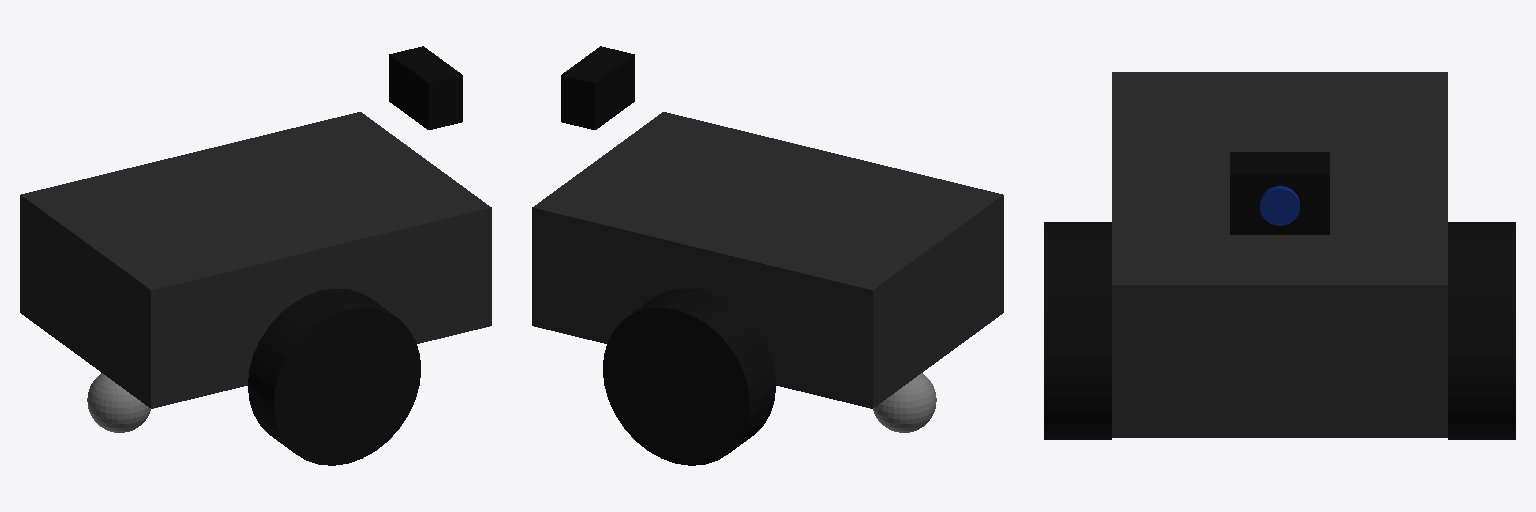
robot.urdf — diffbot_camera:
<?xml version="1.0"?>
<robot name="diffbot_camera">

  <!-- ── Materials ──────────────────────────────────────────────────────────── -->
  <material name="dark_grey"><color rgba="0.2 0.2 0.2 1"/></material>
  <material name="black"><color rgba="0.1 0.1 0.1 1"/></material>
  <material name="grey"><color rgba="0.5 0.5 0.5 1"/></material>
  <material name="blue"><color rgba="0.3 0.5 0.9 1"/></material>
  <material name="camera_black"><color rgba="0.08 0.08 0.08 1"/></material>
  <material name="camera_lens"><color rgba="0.1 0.2 0.5 0.8"/></material>

  <!-- ── Base links (same as diffbot_description) ───────────────────────────── -->
  <link name="base_footprint"/>

  <link name="base_link">
    <visual>
      <geometry><box size="0.3 0.2 0.1"/></geometry>
      <origin xyz="0 0 0.05" rpy="0 0 0"/>
      <material name="dark_grey"/>
    </visual>
    <collision>
      <geometry><box size="0.3 0.2 0.1"/></geometry>
      <origin xyz="0 0 0.05" rpy="0 0 0"/>
    </collision>
    <inertial>
      <mass value="5.0"/>
      <inertia ixx="0.05" ixy="0" ixz="0" iyy="0.05" iyz="0" izz="0.05"/>
    </inertial>
  </link>

  <link name="left_wheel_link">
    <visual>
      <geometry><cylinder radius="0.065" length="0.04"/></geometry>
      <origin xyz="0 0 0" rpy="1.5707963 0 0"/>
      <material name="black"/>
    </visual>
    <collision>
      <geometry><cylinder radius="0.065" length="0.04"/></geometry>
      <origin xyz="0 0 0" rpy="1.5707963 0 0"/>
    </collision>
    <inertial>
      <mass value="0.5"/>
      <inertia ixx="0.001" ixy="0" ixz="0" iyy="0.001" iyz="0" izz="0.001"/>
    </inertial>
  </link>

  <link name="right_wheel_link">
    <visual>
      <geometry><cylinder radius="0.065" length="0.04"/></geometry>
      <origin xyz="0 0 0" rpy="1.5707963 0 0"/>
      <material name="black"/>
    </visual>
    <collision>
      <geometry><cylinder radius="0.065" length="0.04"/></geometry>
      <origin xyz="0 0 0" rpy="1.5707963 0 0"/>
    </collision>
    <inertial>
      <mass value="0.5"/>
      <inertia ixx="0.001" ixy="0" ixz="0" iyy="0.001" iyz="0" izz="0.001"/>
    </inertial>
  </link>

  <link name="caster_link">
    <visual>
      <geometry><sphere radius="0.025"/></geometry>
      <material name="grey"/>
    </visual>
    <collision><geometry><sphere radius="0.025"/></geometry></collision>
    <inertial>
      <mass value="0.1"/>
      <inertia ixx="0.0001" ixy="0" ixz="0" iyy="0.0001" iyz="0" izz="0.0001"/>
    </inertial>
  </link>

  <!-- ── Camera link ────────────────────────────────────────────────────────── -->
  <!-- Small box representing the camera body, mounted at the robot's front -->
  <link name="camera_link">
    <visual>
      <geometry><box size="0.03 0.06 0.04"/></geometry>
      <origin xyz="0 0 0" rpy="0 0 0"/>
      <material name="camera_black"/>
    </visual>
    <visual>
      <!-- Lens circle -->
      <geometry><cylinder radius="0.012" length="0.005"/></geometry>
      <origin xyz="0.017 0 0" rpy="0 1.5708 0"/>
      <material name="camera_lens"/>
    </visual>
    <inertial>
      <mass value="0.05"/>
      <inertia ixx="1e-5" ixy="0" ixz="0" iyy="1e-5" iyz="0" izz="1e-5"/>
    </inertial>
  </link>

  <!-- ── Joints ─────────────────────────────────────────────────────────────── -->
  <joint name="base_footprint_joint" type="fixed">
    <parent link="base_footprint"/>
    <child  link="base_link"/>
    <origin xyz="0 0 0.065" rpy="0 0 0"/>
  </joint>

  <joint name="left_wheel_joint" type="continuous">
    <parent link="base_link"/>
    <child  link="left_wheel_link"/>
    <origin xyz="0.0 0.12 0" rpy="0 0 0"/>
    <axis xyz="0 1 0"/>
    <dynamics damping="0.01" friction="0.1"/>
  </joint>

  <joint name="right_wheel_joint" type="continuous">
    <parent link="base_link"/>
    <child  link="right_wheel_link"/>
    <origin xyz="0.0 -0.12 0" rpy="0 0 0"/>
    <axis xyz="0 1 0"/>
    <dynamics damping="0.01" friction="0.1"/>
  </joint>

  <joint name="caster_joint" type="fixed">
    <parent link="base_link"/>
    <child  link="caster_link"/>
    <origin xyz="-0.12 0 -0.04" rpy="0 0 0"/>
  </joint>

  <!-- Camera mounted at the front of the robot, looking forward (+X direction) -->
  <joint name="camera_joint" type="fixed">
    <parent link="base_link"/>
    <child  link="camera_link"/>
    <!-- 15 cm forward, 0 lateral, 16 cm above base_link origin (≈ top of chassis) -->
    <origin xyz="0.15 0 0.16" rpy="0 0 0"/>
  </joint>

  <!-- ── Camera sensor (ROSpad-compatible Gazebo sensor declaration) ─────────── -->
  <!--
    ROSpad's URDF parser detects <gazebo reference="..."><sensor type="camera">
    and creates a Three.js camera rig attached at that link's joint origin.
    The <remapping> sets the topic name published as sensor_msgs/Image.
  -->
  <gazebo reference="camera_link">
    <sensor type="camera" name="front_camera">
      <camera>
        <horizontal_fov>1.0472</horizontal_fov>  <!-- 60° -->
        <image>
          <width>320</width>
          <height>240</height>
          <format>R8G8B8</format>
        </image>
        <clip><near>0.01</near><far>10.0</far></clip>
      </camera>
      <plugin name="rospad_camera" filename="libgazebo_ros_camera.so">
        <ros>
          <remapping>~/image_raw:=/camera/image_raw</remapping>
        </ros>
        <frame_name>camera_link</frame_name>
      </plugin>
    </sensor>
  </gazebo>

</robot>

--- Facts derived from the render (not from the file) ---
Views: 3 orthographic renders of the robot side by side, from view 1: azimuth 30°, elevation 25°; view 2: azimuth 150°, elevation 25°; view 3: azimuth 270°, elevation 25°.
Model diffbot_camera with 6 links and 5 joints (2 continuous, 3 fixed), rooted at base_footprint, posed every joint at zero.
Links seen in each view (by area): view 1: base_link, right_wheel_link, camera_link, caster_link; view 2: base_link, left_wheel_link, camera_link, caster_link; view 3: base_link, left_wheel_link, right_wheel_link, camera_link.
Link boxes in pixels (box(x1,y1,x2,y2)): base_link: box(20, 112, 491, 408); right_wheel_link: box(248, 288, 420, 465); camera_link: box(389, 46, 462, 129); caster_link: box(87, 373, 150, 432); base_link: box(532, 112, 1003, 408); left_wheel_link: box(603, 288, 775, 465); camera_link: box(561, 46, 634, 129); caster_link: box(873, 373, 936, 432); base_link: box(1112, 72, 1447, 437); left_wheel_link: box(1448, 222, 1515, 439); right_wheel_link: box(1044, 222, 1111, 439); camera_link: box(1230, 152, 1329, 234).
Size in the robot's own frame: 0.3195 by 0.28 by 0.245 metres.
Geometry: primitives only (box / cylinder / sphere), no mesh files.
